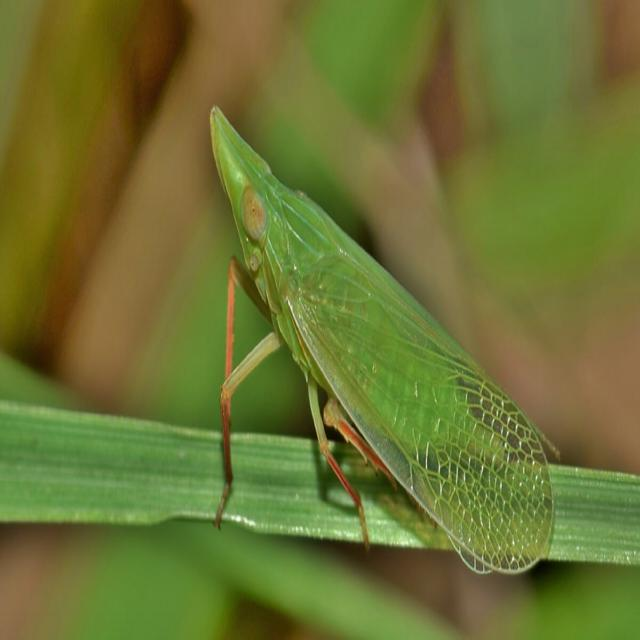Yechan: (172, 95, 565, 601)
